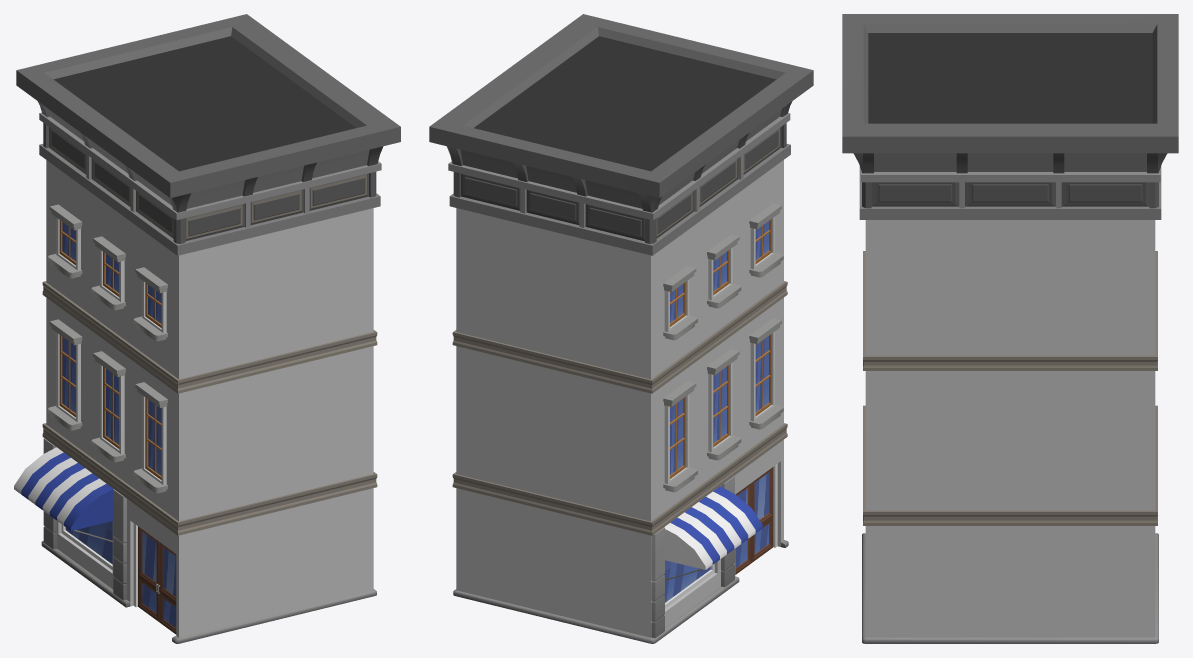
Rendered from Building_8_2_X.fbx.
3 views of the same model, side by side, from view 1: azimuth 30°, elevation 25°; view 2: azimuth 150°, elevation 25°; view 3: azimuth 270°, elevation 25° (orthographic). The views are drawn at different scales.
Parts seen in each view (by area): view 1: Building 8_2_X; view 2: Building 8_2_X; view 3: Building 8_2_X.
Part boxes in pixels (x1=…): Building 8_2_X: x1=14, y1=14, x2=400, y2=643; Building 8_2_X: x1=429, y1=14, x2=813, y2=643; Building 8_2_X: x1=842, y1=14, x2=1178, y2=643.
Bounding box in the file's own units: 720 × 1276 × 755.
